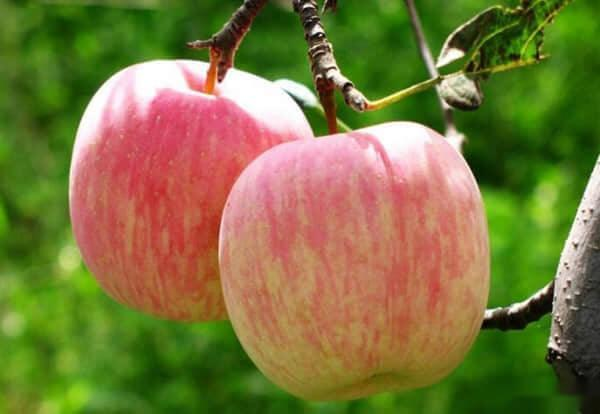apple: (224, 120, 495, 399), (71, 56, 318, 326)
